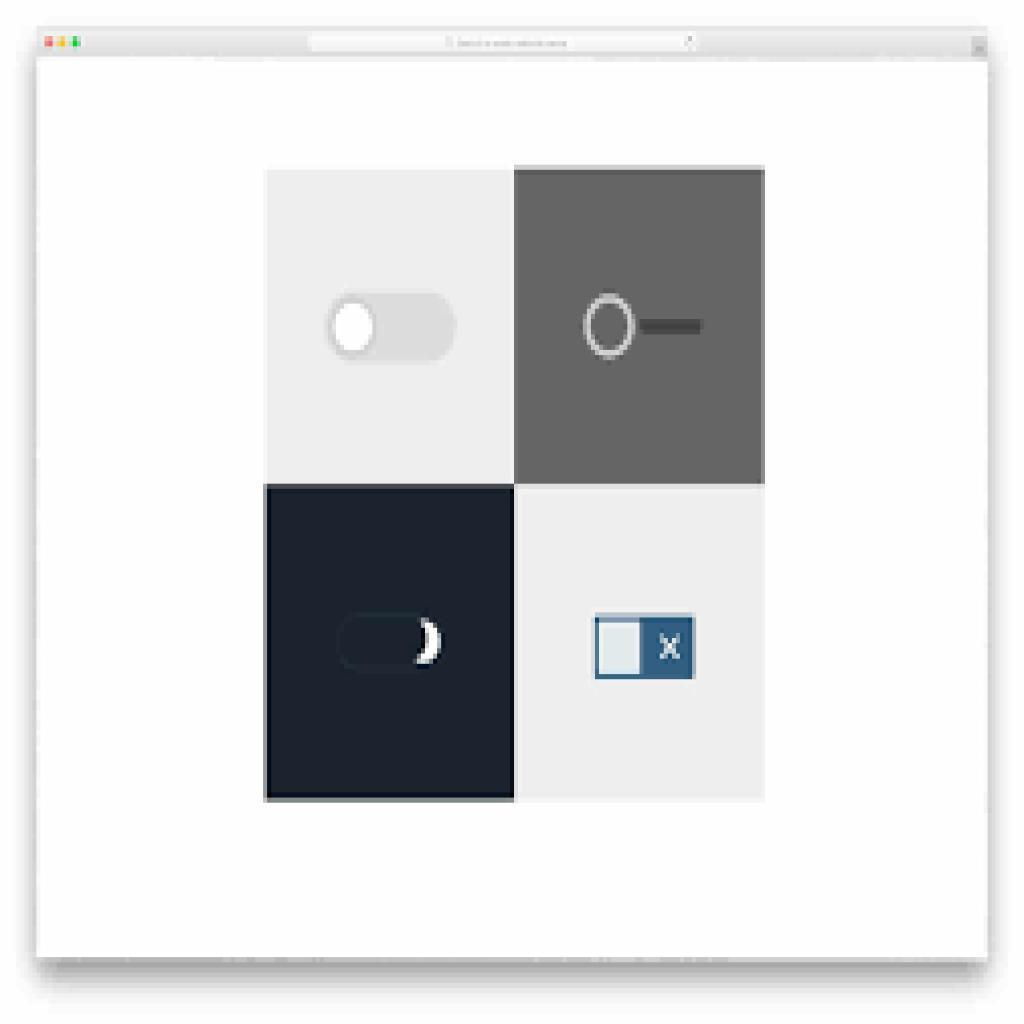switch: (325, 286, 457, 372), (591, 611, 700, 685)
